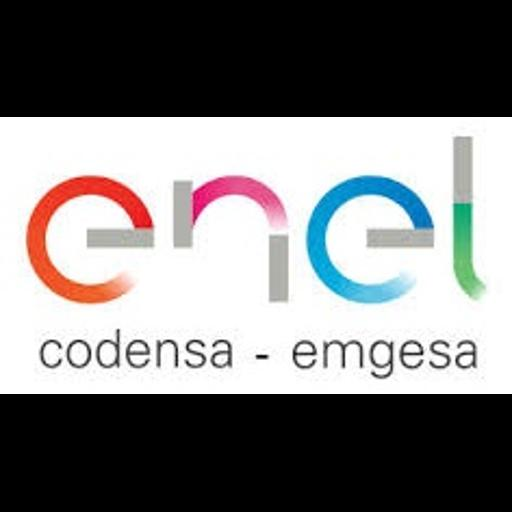Enel Energia S-p-A: (0, 117, 512, 394)
